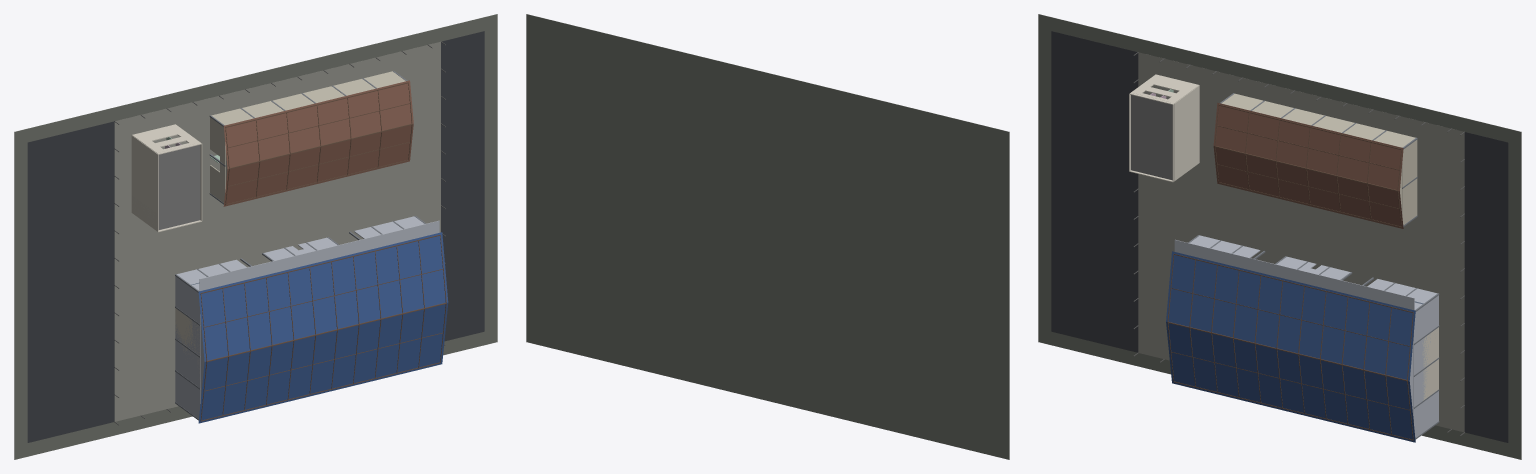
Rendered from jm_factory_world.obj.
3 renders of one model, left to right at view 1: azimuth 30°, elevation 25°; view 2: azimuth 150°, elevation 25°; view 3: azimuth 330°, elevation 25°, orthographic.
Parts seen in each view (by area): view 1: site__World_Ground_yard, DA-roof__World_Dadong_Roof_clad_roof, site__World_Ground_road_west, site__World_Ground_terrain, NA-roof__World_Nadong_Roof_clad_roof, site__World_Ground_road_east, GA-roof__World_Gadong_Roof_slab, DA-roof__World_Dadong_Roof_canopy_N, NA-1F__World_Nadong_F1_wall_N_0, DA-1F__World_Dadong_F1_wall_W_0, DA-2F__World_Dadong_F2_wall_W_0, DA-1F__World_Dadong_F1_wall_N_0 (+5 smaller); view 2: site__World_Ground_terrain; view 3: site__World_Ground_yard, DA-roof__World_Dadong_Roof_clad_roof, site__World_Ground_road_west, site__World_Ground_terrain, NA-roof__World_Nadong_Roof_clad_roof, site__World_Ground_road_east, GA-roof__World_Gadong_Roof_slab, DA-roof__World_Dadong_Roof_canopy_N, NA-1F__World_Nadong_F1_wall_N_0, DA-2F__World_Dadong_F2_wall_E_0, NA-1F__World_Nadong_F1_wall_E_0, DA-1F__World_Dadong_F1_wall_E_0 (+6 smaller).
Boxes of the visible parts, x1,y1,x2,y2 form: site__World_Ground_yard: [114, 41, 440, 421]; DA-roof__World_Dadong_Roof_clad_roof: [198, 232, 448, 423]; site__World_Ground_road_west: [27, 121, 114, 442]; site__World_Ground_terrain: [14, 14, 497, 459]; NA-roof__World_Nadong_Roof_clad_roof: [223, 80, 413, 206]; site__World_Ground_road_east: [441, 31, 484, 341]; GA-roof__World_Gadong_Roof_slab: [158, 145, 200, 229]; DA-roof__World_Dadong_Roof_canopy_N: [199, 220, 439, 290]; NA-1F__World_Nadong_F1_wall_N_0: [211, 71, 405, 125]; DA-1F__World_Dadong_F1_wall_W_0: [175, 276, 190, 412]; DA-2F__World_Dadong_F2_wall_W_0: [190, 287, 200, 418]; DA-1F__World_Dadong_F1_wall_N_0: [177, 259, 246, 284]; site__World_Ground_terrain: [526, 14, 1009, 459]; site__World_Ground_yard: [1138, 52, 1464, 432]; DA-roof__World_Dadong_Roof_clad_roof: [1166, 251, 1415, 442]; site__World_Ground_road_west: [1051, 31, 1138, 352]; site__World_Ground_terrain: [1038, 14, 1521, 459]; NA-roof__World_Nadong_Roof_clad_roof: [1213, 102, 1403, 228]; site__World_Ground_road_east: [1464, 132, 1508, 442]; GA-roof__World_Gadong_Roof_slab: [1131, 95, 1172, 180]; DA-roof__World_Dadong_Roof_canopy_N: [1174, 239, 1414, 310]; NA-1F__World_Nadong_F1_wall_N_0: [1221, 93, 1415, 147]; DA-2F__World_Dadong_F2_wall_E_0: [1413, 306, 1423, 437]; NA-1F__World_Nadong_F1_wall_E_0: [1402, 140, 1417, 225]; DA-1F__World_Dadong_F1_wall_E_0: [1424, 295, 1438, 431].
Size of the model in its own units: 111 by 72 by 12.65.
